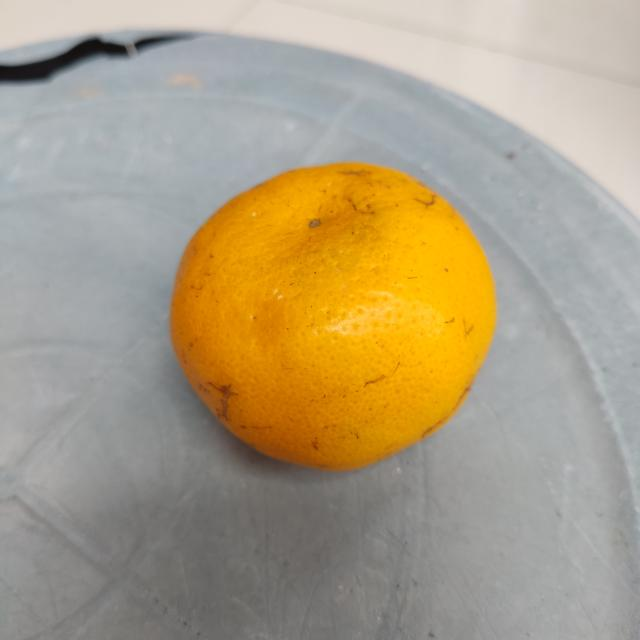orange: (165, 161, 500, 474)
